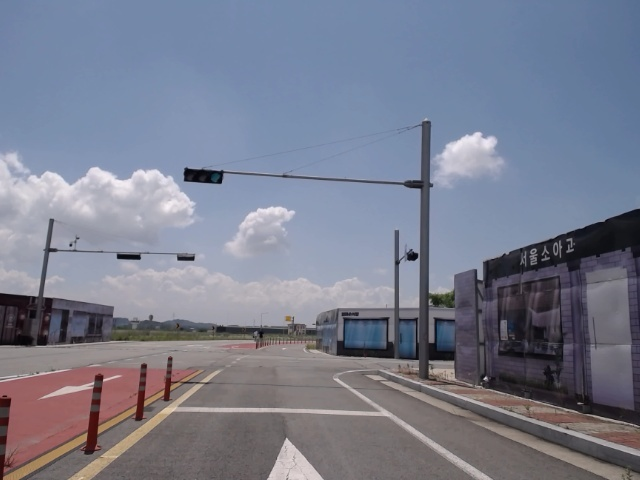green_3: (185, 170, 222, 183)
